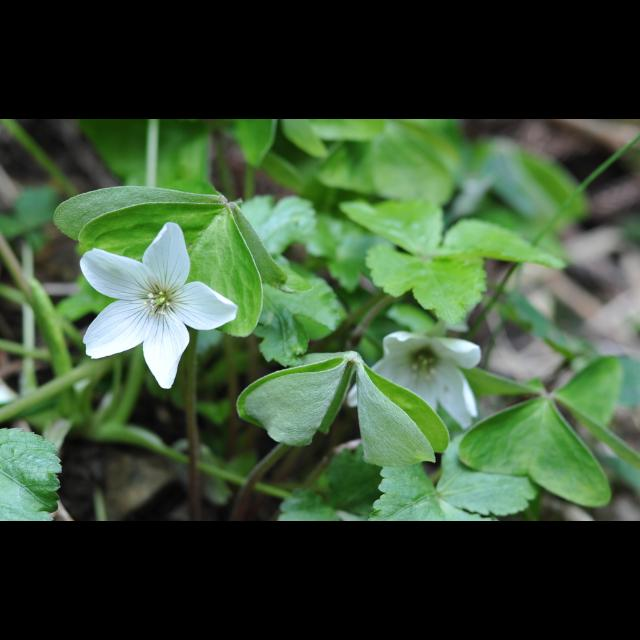Flower: (91, 216, 261, 384), (348, 326, 484, 432)
